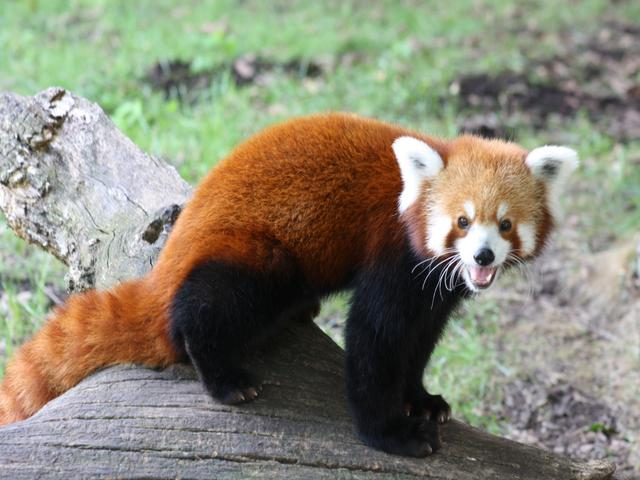panda: (382, 140, 584, 310)
